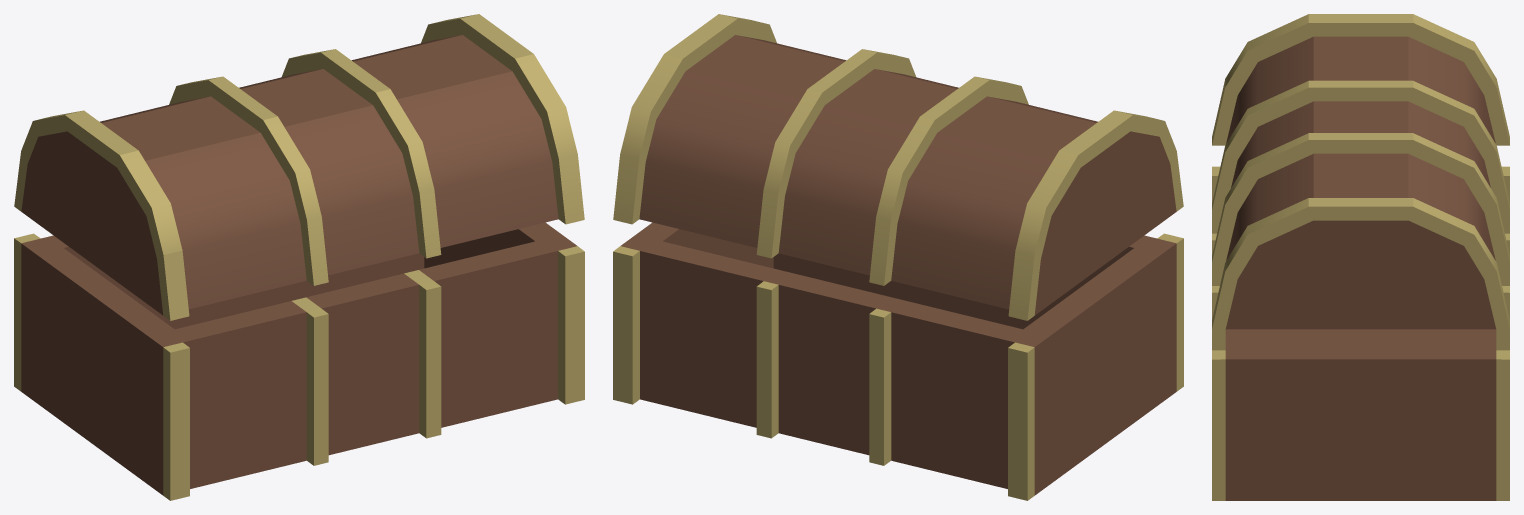
File: chestColored.fbx
3 views of the same model, side by side, from view 1: azimuth 30°, elevation 25°; view 2: azimuth 150°, elevation 25°; view 3: azimuth 270°, elevation 25° (orthographic). The views are drawn at different scales.
Parts seen in each view (by area): view 1: chest:pCube2, chest:pCube1; view 2: chest:pCube2, chest:pCube1; view 3: chest:pCube2, chest:pCube1.
Part boxes in pixels (x1,y1,x2,y2): chest:pCube2: [14, 14, 584, 320]; chest:pCube1: [14, 222, 584, 500]; chest:pCube2: [613, 14, 1183, 320]; chest:pCube1: [613, 222, 1183, 500]; chest:pCube2: [1212, 14, 1509, 329]; chest:pCube1: [1212, 166, 1509, 500].
Bounding box in the file's own units: 1.69 × 1.2 × 1.1.
